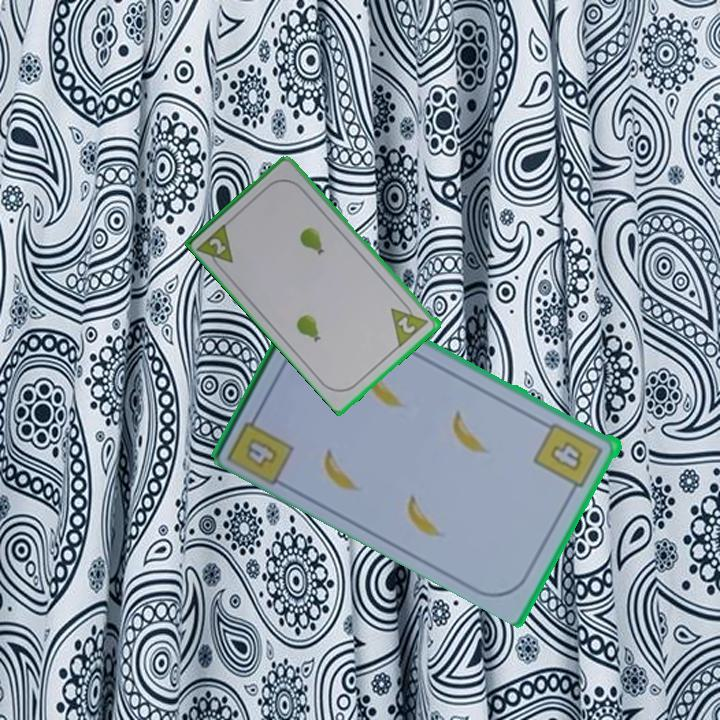2p: (394, 313, 419, 337), (206, 234, 230, 258)
4b: (224, 404, 298, 486), (531, 419, 607, 497)
